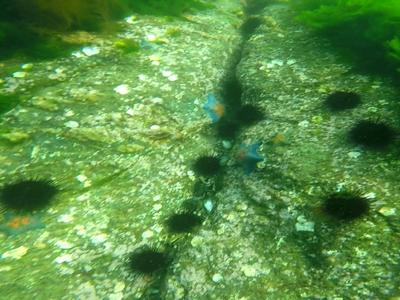urchin: (5, 179, 56, 212), (318, 192, 366, 222), (346, 120, 390, 152), (132, 250, 167, 274), (327, 90, 363, 113), (163, 212, 200, 234), (233, 106, 263, 127), (193, 155, 218, 175), (216, 119, 241, 138)
